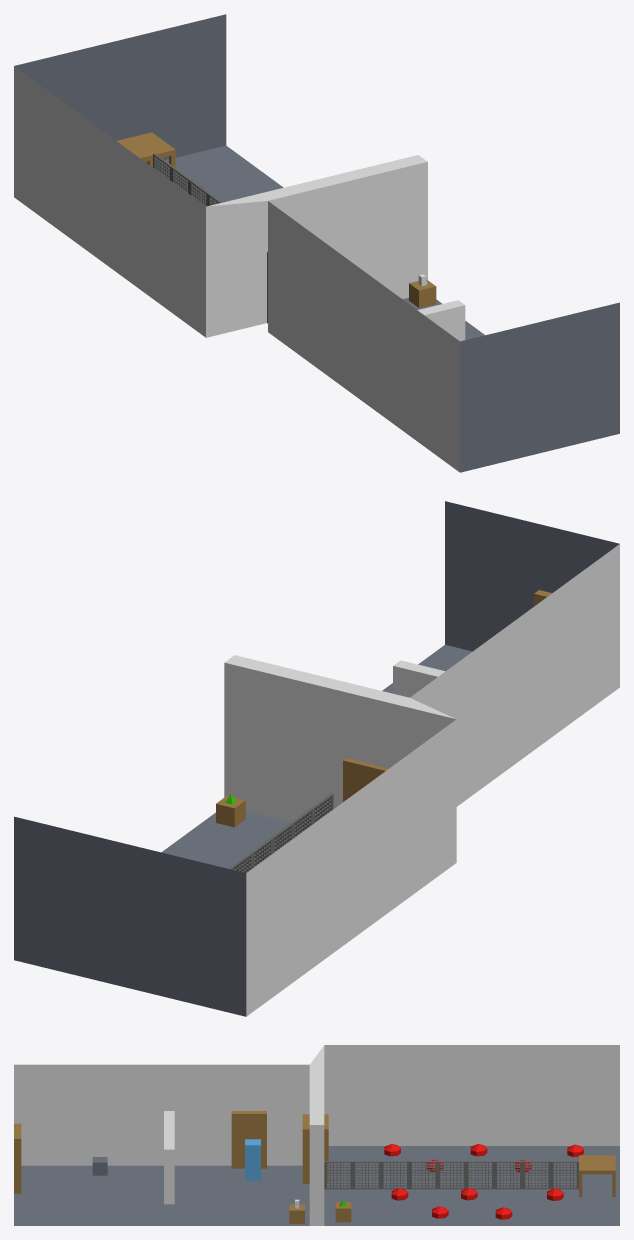
3 renders of one model, top to bottom at view 1: azimuth 30°, elevation 25°; view 2: azimuth 150°, elevation 25°; view 3: azimuth 270°, elevation 25°, orthographic. The views are drawn at different scales.
Parts seen in each view (by area): view 1: cuarto.002, pared.001, mesa, valla, cajon.003; view 2: cuarto.002, pared.001, valla, puerta.006, cajon.004; view 3: cuarto.002, valla, puerta.008, pared.001, mesa, ninio.002, puerta.004, puerta.007, cajon.004, gato.002, cajon.003, puerta.006.
Boxes of the visible parts, x1,y1,x2,y2 form: cuarto.002: [14, 14, 619, 472]; pared.001: [355, 300, 465, 400]; mesa: [117, 132, 175, 167]; valla: [153, 153, 222, 206]; cajon.003: [409, 279, 436, 307]; cuarto.002: [14, 501, 619, 1016]; pared.001: [393, 660, 513, 770]; valla: [228, 793, 333, 872]; puerta.006: [343, 758, 388, 801]; cajon.004: [216, 795, 245, 827]; cuarto.002: [14, 1045, 619, 1225]; valla: [324, 1161, 578, 1189]; puerta.008: [231, 1111, 266, 1168]; pared.001: [164, 1111, 174, 1204]; mesa: [579, 1155, 615, 1196]; ninio.002: [245, 1139, 260, 1180]; puerta.004: [14, 1123, 21, 1193]; puerta.007: [302, 1114, 309, 1183]; cajon.004: [335, 1202, 351, 1222]; gato.002: [92, 1157, 107, 1175]; cajon.003: [289, 1204, 304, 1223]; puerta.006: [324, 1114, 328, 1183].
Bounding box in the file's own units: 625 × 369 × 2008.
